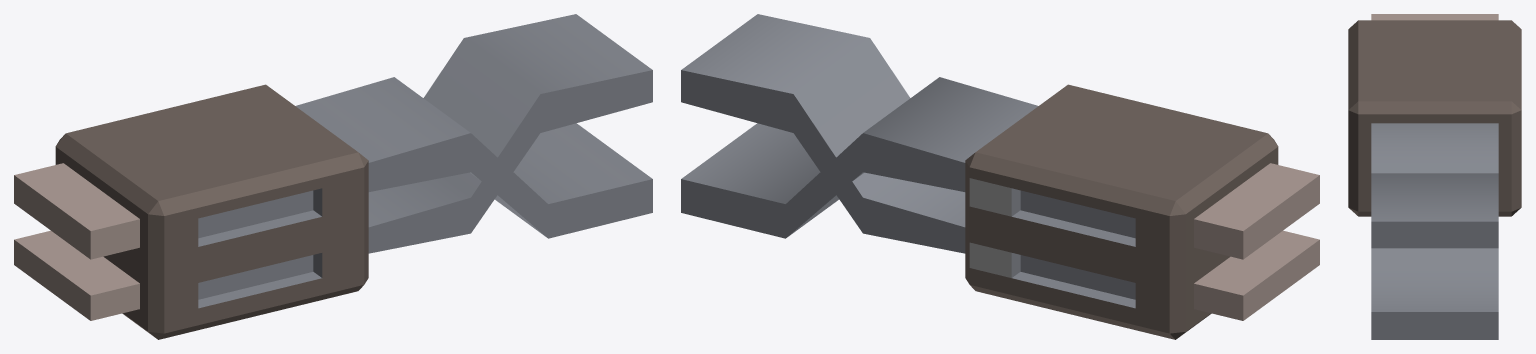
File: EnginePart_03.fbx
The picture shows the model from 3 angles, left to right: view 1: azimuth 30°, elevation 25°; view 2: azimuth 150°, elevation 25°; view 3: azimuth 270°, elevation 25°; orthographic projection. The views are drawn at different scales.
Parts seen in each view (by area): view 1: EnginePart_03; view 2: EnginePart_03; view 3: EnginePart_03.
Part boxes in pixels (x1,y1,x2,y2): EnginePart_03: (14,14,652,339); EnginePart_03: (681,14,1319,339); EnginePart_03: (1348,14,1521,339).
Size of the model in its own units: 62.89 by 15.67 by 20.23.
